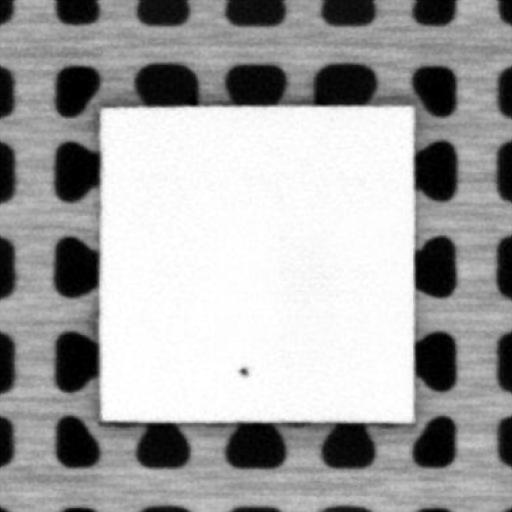DIE_INK: (236, 364, 249, 378)
